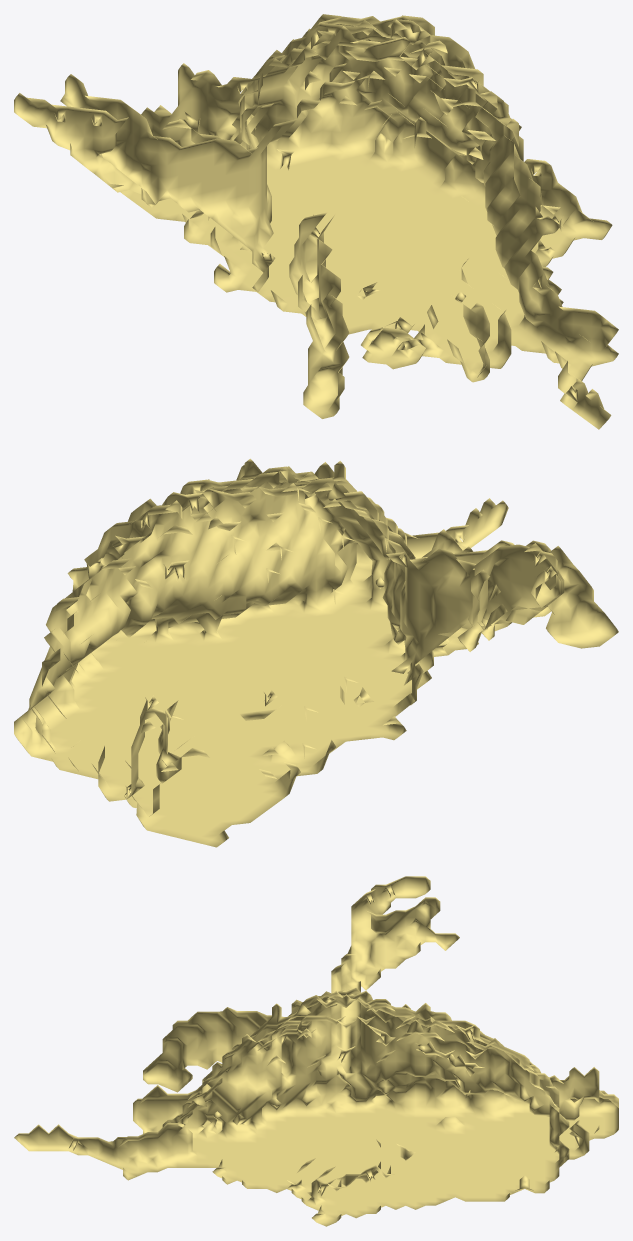
File: osteocyte_11.glb
3 renders of one model, top to bottom at view 1: azimuth 30°, elevation 25°; view 2: azimuth 150°, elevation 25°; view 3: azimuth 270°, elevation 25°, orthographic. The views are drawn at different scales.
Parts seen in each view (by area): view 1: osteocyte_11; view 2: osteocyte_11; view 3: osteocyte_11.
Part boxes in pixels (box(x1,y1,x2,y2)): osteocyte_11: box(14, 14, 618, 429); osteocyte_11: box(14, 458, 618, 847); osteocyte_11: box(14, 876, 618, 1226).
Bounding box in the file's own units: 20.57 × 8.05 × 27.27.
